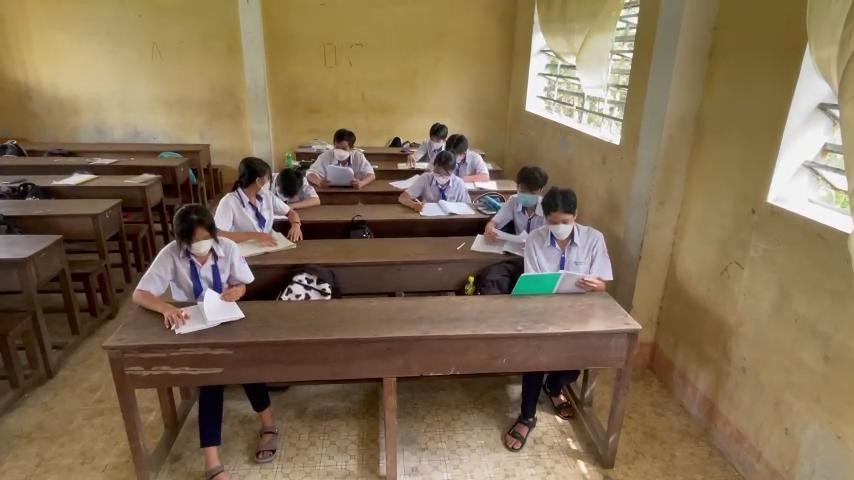Hand Under Table: (449, 177, 472, 206)
Look Around: (229, 152, 274, 203)
